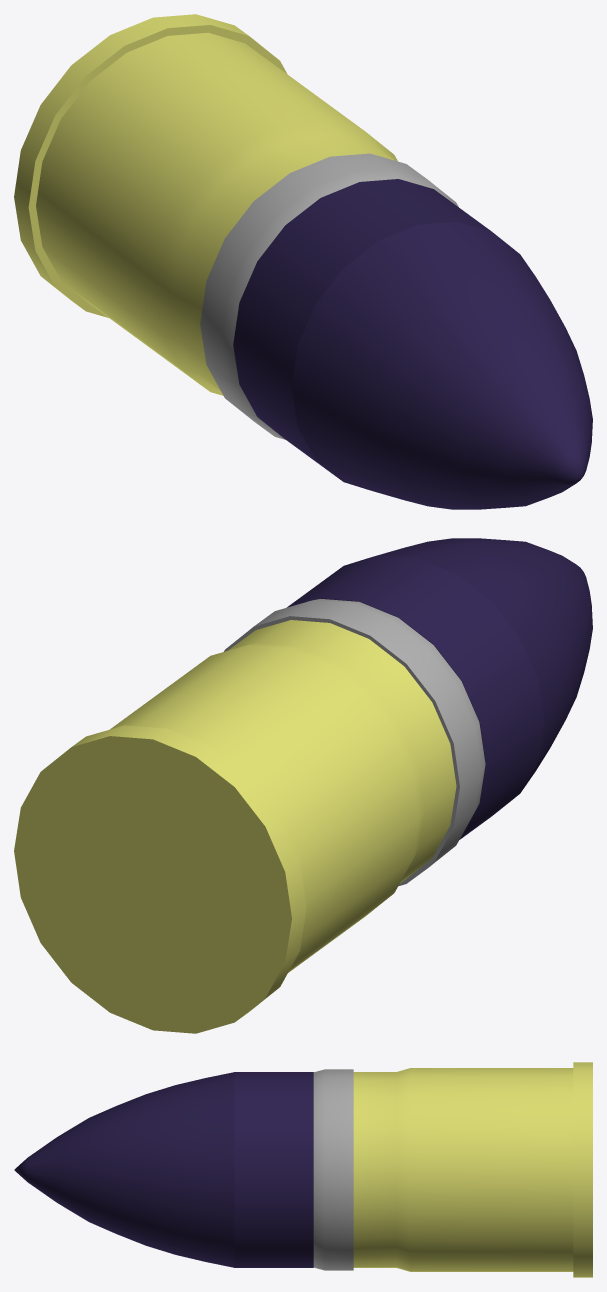
File: Bullet2.fbx
The picture shows the model from 3 angles, top to bottom: view 1: azimuth 30°, elevation 25°; view 2: azimuth 150°, elevation 25°; view 3: azimuth 270°, elevation 25°; orthographic projection. The views are drawn at different scales.
Parts seen in each view (by area): view 1: pCylinder7; view 2: pCylinder7; view 3: pCylinder7.
Part boxes in pixels (x1=…): pCylinder7: x1=14, y1=14, x2=592, y2=509; pCylinder7: x1=14, y1=538, x2=592, y2=1033; pCylinder7: x1=14, y1=1062, x2=592, y2=1277.
Size of the model in its own units: 11 by 11 by 29.33.
